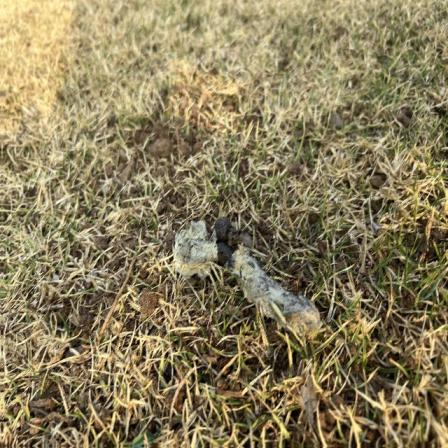dog-poop: (171, 217, 336, 339)
